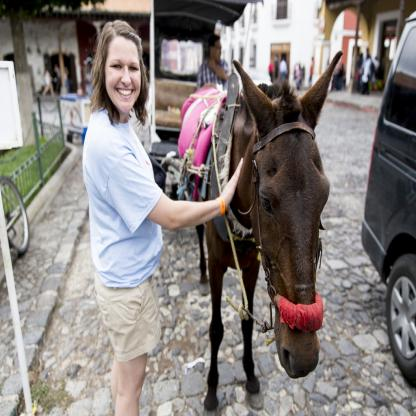Car: (362, 13, 416, 387)
